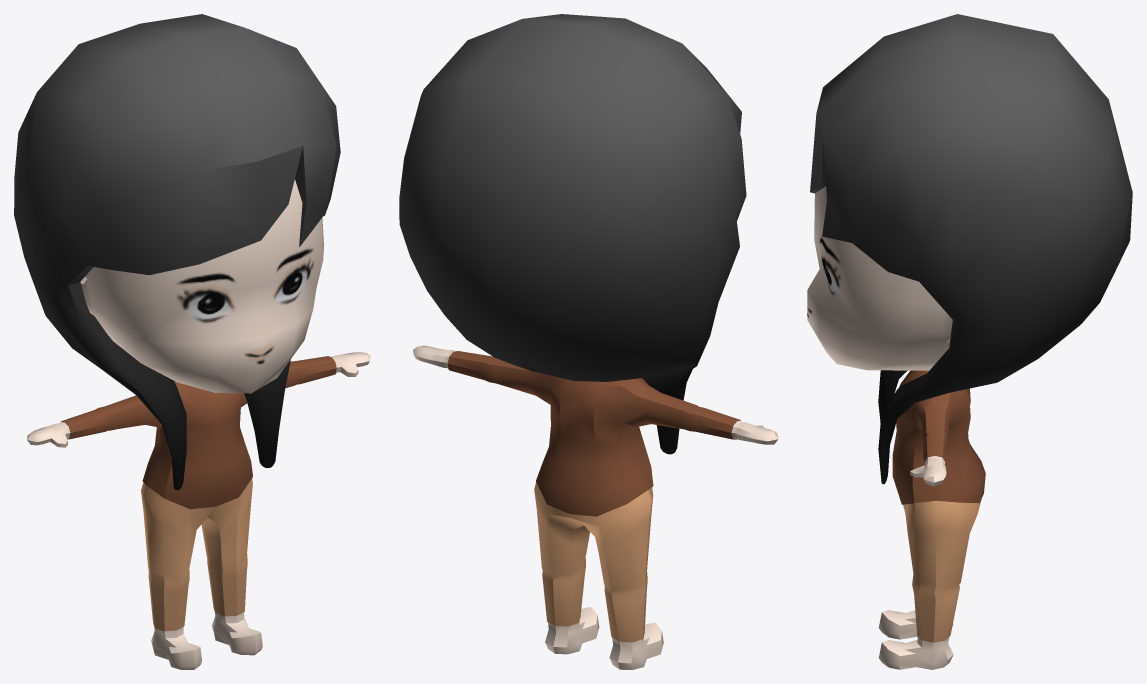
Rendered from Char_CEWEK_003.fbx.
3 views of the same model, side by side, from view 1: azimuth 30°, elevation 25°; view 2: azimuth 150°, elevation 25°; view 3: azimuth 270°, elevation 25° (orthographic). The views are drawn at different scales.
Visible parts, largest first — view 1: Char 1.026, Char 1.030, Char 1.033, Char 1.034; view 2: Char 1.026, Char 1.033, Char 1.034, Char 1.030; view 3: Char 1.026, Char 1.030, Char 1.033, Char 1.034.
Part boxes in pixels (left/top/right/bottom): Char 1.026: left=14, top=14, right=340, bottom=490; Char 1.030: left=27, top=179, right=370, bottom=669; Char 1.033: left=61, top=356, right=336, bottom=509; Char 1.034: left=141, top=478, right=252, bottom=631; Char 1.026: left=399, top=14, right=746, bottom=454; Char 1.033: left=447, top=351, right=740, bottom=516; Char 1.034: left=534, top=482, right=653, bottom=642; Char 1.030: left=413, top=345, right=778, bottom=669; Char 1.026: left=810, top=14, right=1132, bottom=484; Char 1.030: left=807, top=186, right=953, bottom=669; Char 1.033: left=892, top=370, right=985, bottom=504; Char 1.034: left=903, top=500, right=981, bottom=642.
Bounding box in the file's own units: 833 × 1392 × 670.
Materials: 2 (2 with a texture image).
